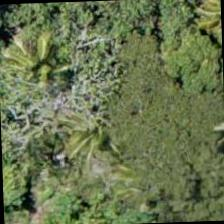Kelapa_Sawit: (0, 11, 83, 105)
